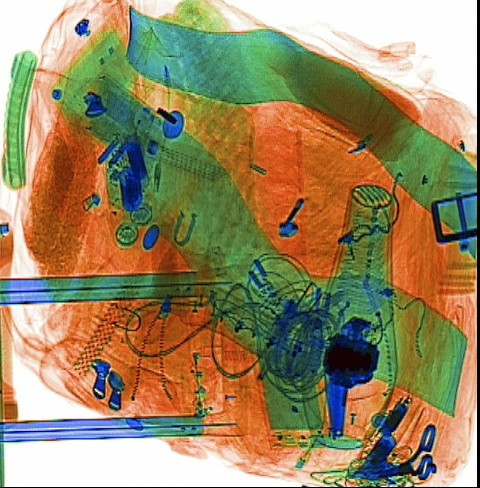scissors: (372, 422, 438, 481)
